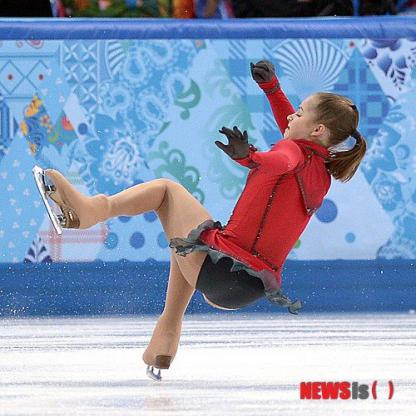Fall_Down: (40, 62, 361, 374)
